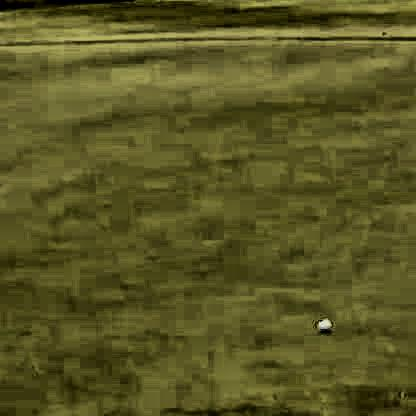golfball: (315, 315, 331, 331)
